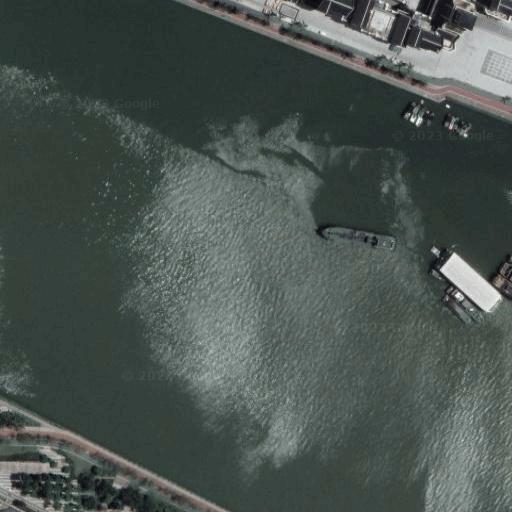building: (432, 246, 502, 314), (0, 461, 50, 480)
